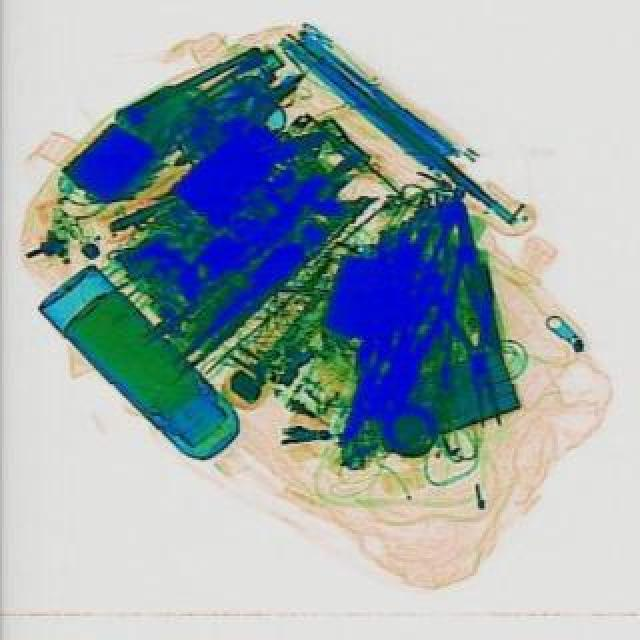wrench: (428, 268, 520, 436)
